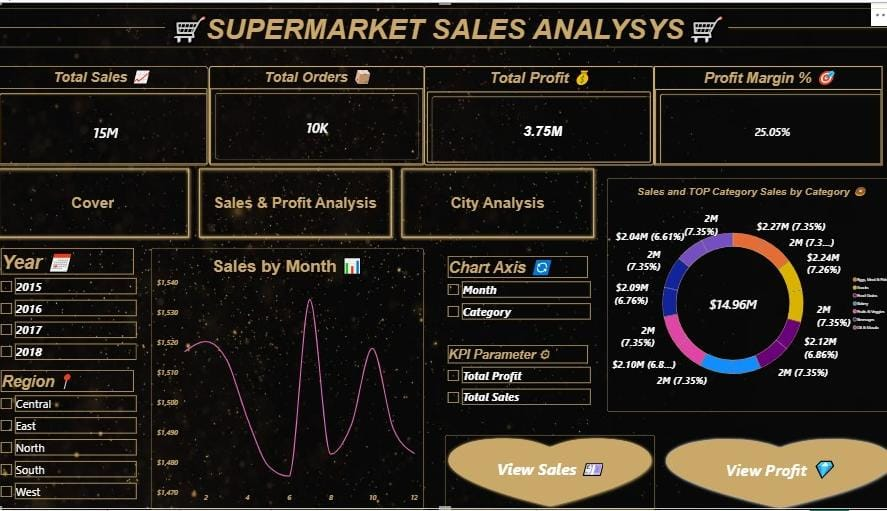

What the dashboard file says about the page in this screenshot:
{"tool":"powerbi","page":{"name":"Overview","canvas":[2560,1440],"ordinal":1},"visuals":[{"type":"image","box":[0,0,2560,1437.9],"z":0},{"type":"cardVisual","title":"Total Sales 📈","fields":{"Data":["DAX.Total Sales"]},"box":[0,181.4,611.4,282.2],"z":1000},{"type":"cardVisual","title":"Total Profit  💰","fields":{"Data":["DAX.Total Profit"]},"box":[1222.9,181.4,651.8,282.2],"z":2000},{"type":"cardVisual","title":"Profit Margin % 🎯","fields":{"Data":["DAX.Profit Margin %"]},"box":[1874.6,181.4,648.4,282.2],"z":3000},{"type":"cardVisual","title":"Total Orders 📦","fields":{"Data":["DAX.Total Orders"]},"box":[611.4,181.4,611.4,282.2],"z":4000},{"type":"slicer","fields":{"Values":["Dim_Date.Year"]},"box":[13.3,696.7,393.1,346],"z":5000},{"type":"slicer","fields":{"Values":["Dim_Location.Region"]},"box":[13.3,1043.3,393.1,376.3],"z":6000},{"type":"donutChart","title":"Sales and TOP Category Sales by Category  🍩","fields":{"Category":["Dim_Product.Category"],"Y":["Sum(Fact_Sales.Sales)","DAX.TOP Category Sales"]},"box":[1740,500,820,663.3],"z":7000},{"type":"lineChart","title":"Profit by Month   📊","fields":{"Category":["Dim_Product.Category"],"Y":["Avg(Fact_Sales.Profit)"]},"box":[436.7,696.7,706.7,743.3],"z":9000},{"type":"actionButton","title":"View Profit","box":[1898.2,1229.6,661.8,211.7],"z":10000},{"type":"actionButton","box":[1280,1226.2,594.6,211.7],"z":11000},{"type":"slicer","fields":{"Values":["KPI Parameter.KPI Parameter"]},"box":[1280,973.3,413.2,191.5],"z":12000},{"type":"slicer","fields":{"Values":["Chart Axis.Chart Axis"]},"box":[1280,720,413.2,218.4],"z":13000},{"type":"shape","title":"🛒SUOERMARKET SALES ANALYSYS🛒","box":[0,16.8,2560,110.9],"z":14000},{"type":"shape","box":[13.4,0,473.7,144.5],"z":15000},{"type":"shape","box":[2076.2,0,483.8,144.5],"z":16000},{"type":"pageNavigator","box":[0,463.3,1716.7,216.7],"z":17000}]}

Visuals, with their boxes in screenshot pixels (x1, y1, x2, y2), scaled from the page's 2560x1440 canvas onto the 887x511 screenshot:
image: [x1=0, y1=0, x2=886, y2=510]
"Total Sales 📈" cardVisual: [x1=0, y1=64, x2=212, y2=165]
"Total Profit  💰" cardVisual: [x1=424, y1=64, x2=650, y2=165]
"Profit Margin % 🎯" cardVisual: [x1=650, y1=64, x2=874, y2=165]
"Total Orders 📦" cardVisual: [x1=212, y1=64, x2=424, y2=165]
slicer - Dim_Date.Year: [x1=5, y1=247, x2=141, y2=370]
slicer - Dim_Location.Region: [x1=5, y1=370, x2=141, y2=504]
"Sales and TOP Category Sales by Category  🍩" donutChart: [x1=603, y1=177, x2=886, y2=413]
"Profit by Month   📊" lineChart: [x1=151, y1=247, x2=396, y2=510]
"View Profit" actionButton: [x1=658, y1=436, x2=886, y2=510]
actionButton: [x1=444, y1=435, x2=650, y2=510]
slicer - KPI Parameter.KPI Parameter: [x1=444, y1=345, x2=587, y2=413]
slicer - Chart Axis.Chart Axis: [x1=444, y1=256, x2=587, y2=333]
"🛒SUOERMARKET SALES ANALYSYS🛒" shape: [x1=0, y1=6, x2=886, y2=45]
shape: [x1=5, y1=0, x2=169, y2=51]
shape: [x1=719, y1=0, x2=886, y2=51]
pageNavigator: [x1=0, y1=164, x2=595, y2=241]
